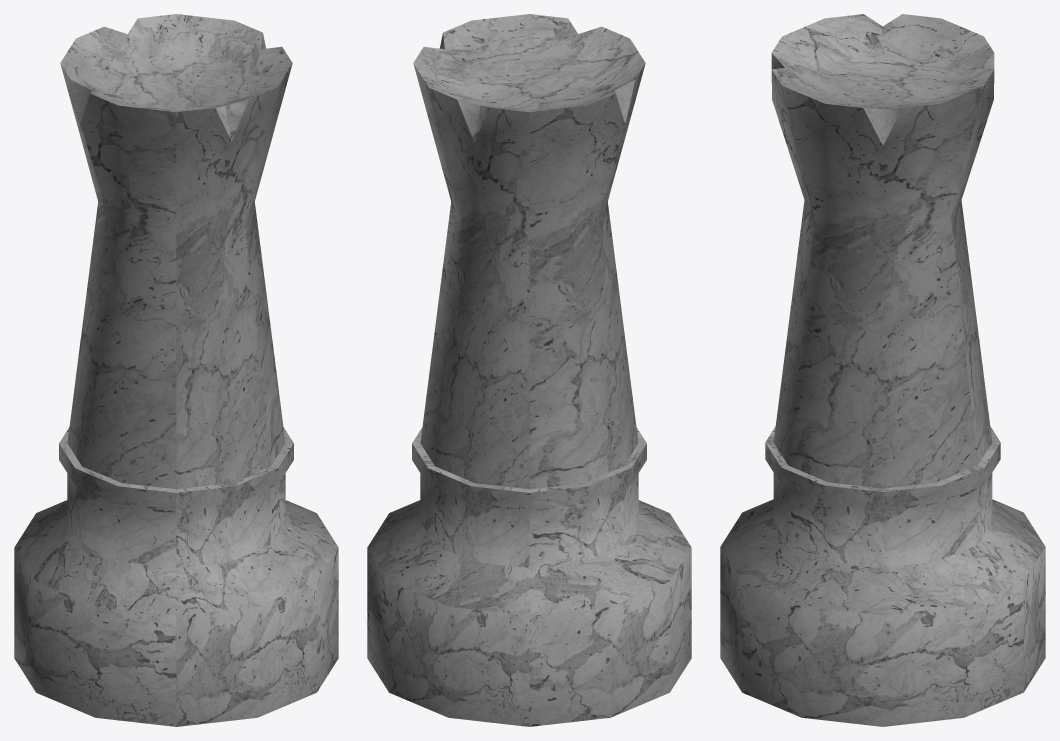
File: rook.glb
3 views of the same model, side by side, from view 1: azimuth 30°, elevation 25°; view 2: azimuth 150°, elevation 25°; view 3: azimuth 270°, elevation 25° (orthographic).
Parts seen in each view (by area): view 1: Rook; view 2: Rook; view 3: Rook.
Boxes of the visible parts, x1,y1,x2,y2 form: Rook: (14,14,338,726); Rook: (367,14,691,726); Rook: (720,14,1045,726).
Size of the model in its own units: 1.1 by 2.23 by 1.1.
Materials: 1 (1 with a texture image).
